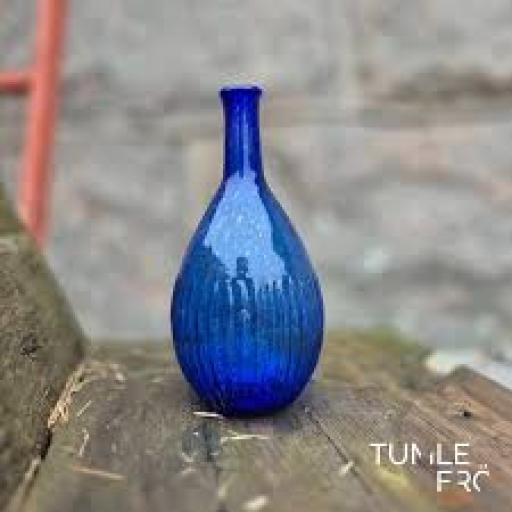blue-bottle: (171, 84, 321, 414)
